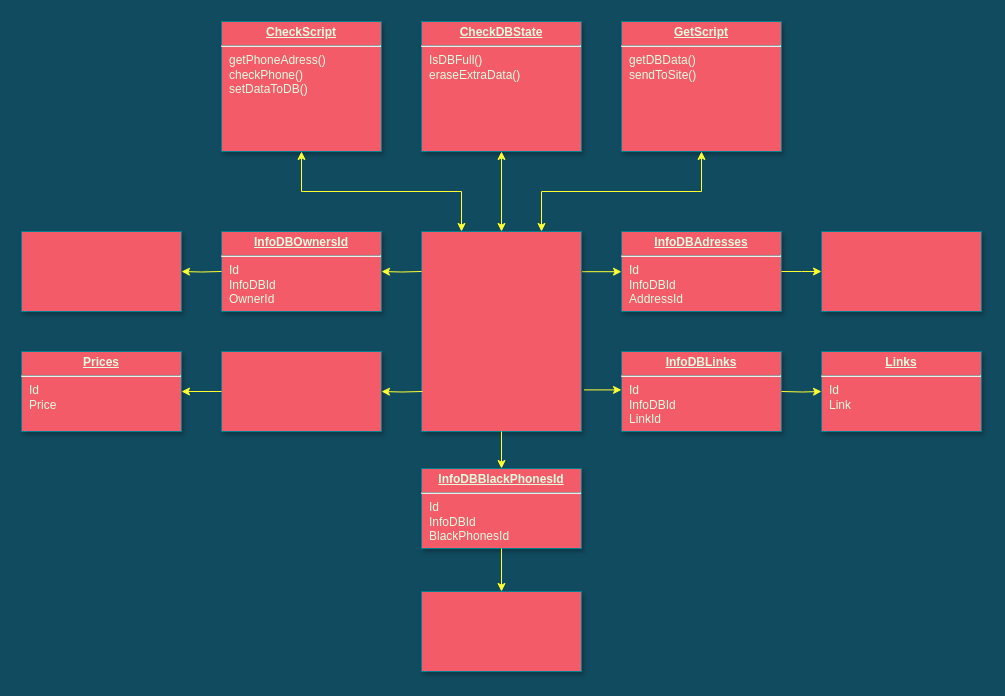
The diagram is 1005 pixels wide and 696 high, and some of its shapes have lost their labels. Here are the shapes that lost their labels. From the top down, the centre of each, then its label:
At point 102,272: "OwnersId Id OwnerId".
At point 902,272: "Addresses Id Address".
At point 502,332: "InfoDB Id Phone".
At point 302,392: "InfoDBPricesId Id InfoDBId PriceId".
At point 502,632: "BlackPhones Id BlackPhone".
